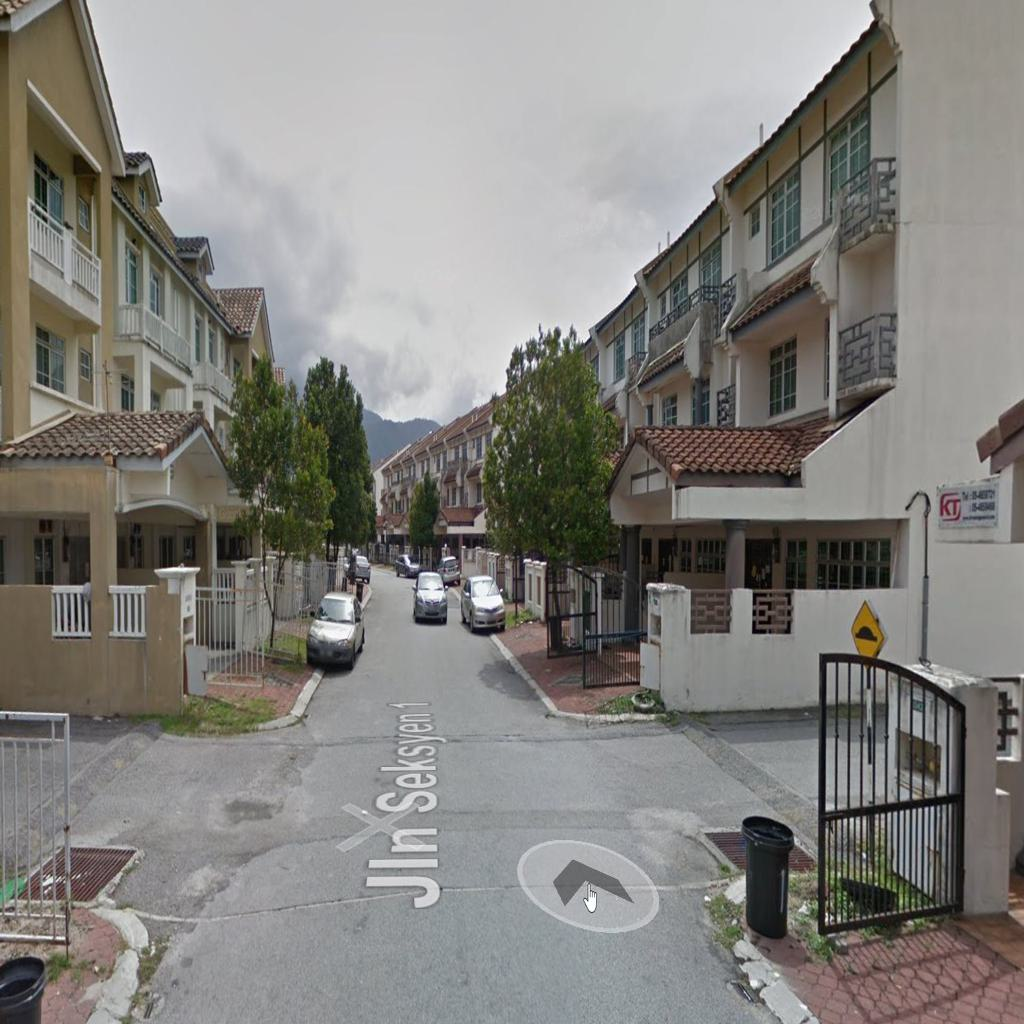Junction: (1, 673, 354, 994), (563, 655, 887, 950)
